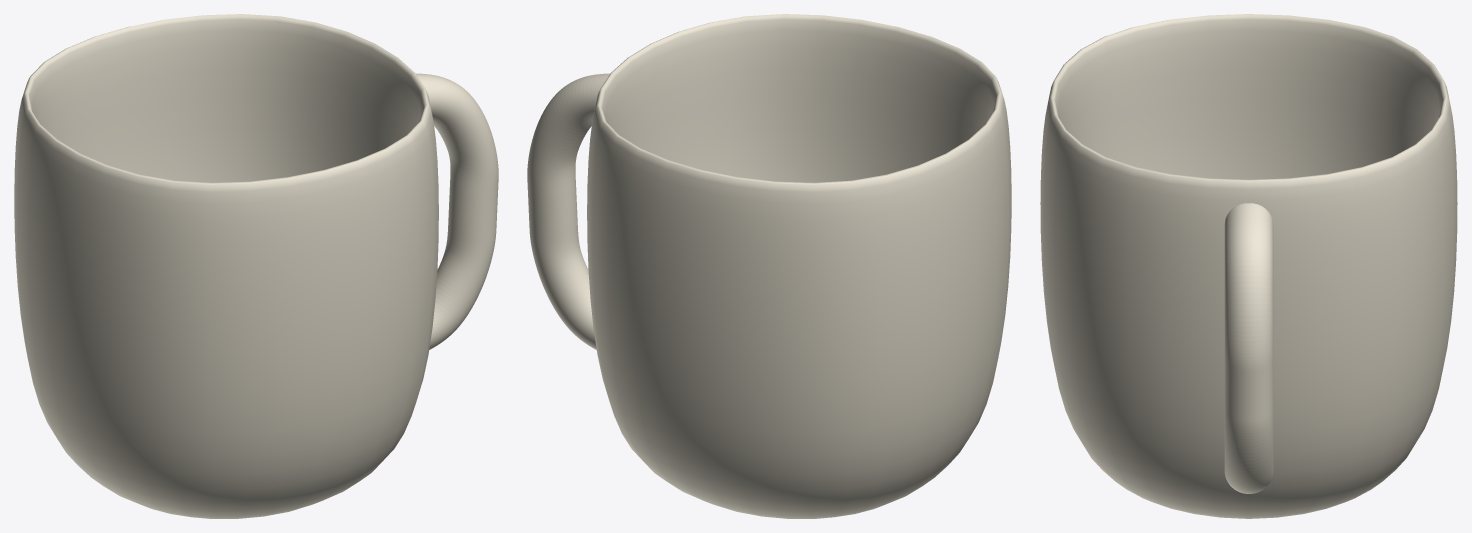
Rendered from mug.fbx.
The picture shows the model from 3 angles, left to right: view 1: azimuth 30°, elevation 25°; view 2: azimuth 150°, elevation 25°; view 3: azimuth 270°, elevation 25°; orthographic projection.
Parts seen in each view (by area): view 1: cup; view 2: cup; view 3: cup.
Boxes of the visible parts, left/top/right/bottom form: cup: left=14, top=14, right=498, bottom=518; cup: left=527, top=14, right=1011, bottom=518; cup: left=1040, top=14, right=1457, bottom=518.
Size of the model in its own units: 458 by 379 by 367.
